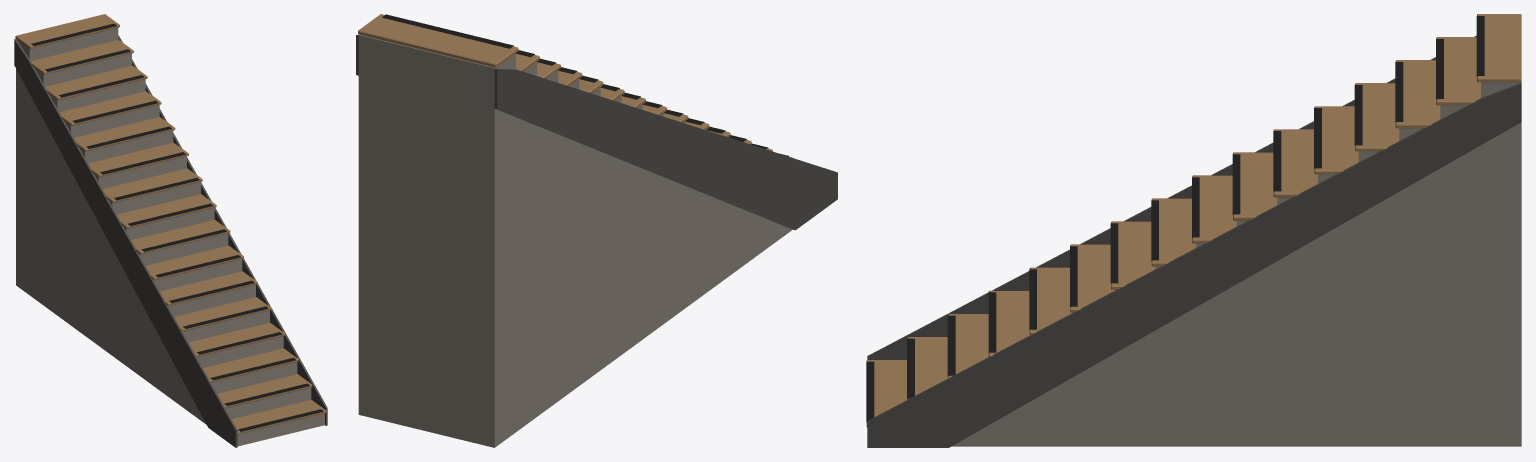
File: Stairs.fbx
The picture shows the model from 3 angles, left to right: view 1: azimuth 30°, elevation 25°; view 2: azimuth 150°, elevation 25°; view 3: azimuth 270°, elevation 25°; orthographic projection. The views are drawn at different scales.
Visible parts, largest first — view 1: Stairs_Mesh; view 2: Stairs_Mesh; view 3: Stairs_Mesh.
Part boxes in pixels (x1,y1,x2,y2): Stairs_Mesh: (14, 14, 327, 447); Stairs_Mesh: (356, 14, 837, 447); Stairs_Mesh: (866, 14, 1521, 447).
Size of the model in its own units: 1.04 by 2.7 by 4.35.
